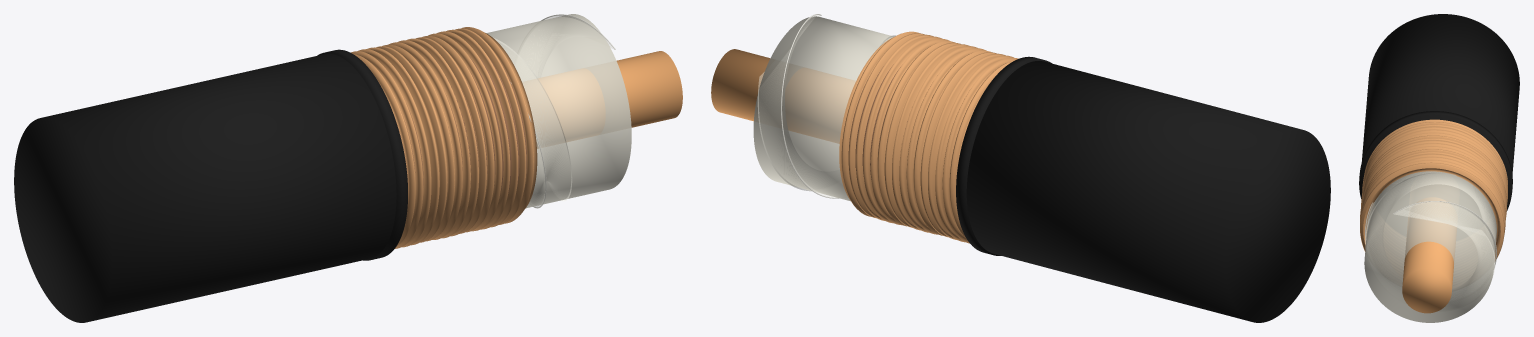
Rendered from rf-lcf78.glb.
The picture shows the model from 3 angles, left to right: view 1: azimuth 30°, elevation 25°; view 2: azimuth 150°, elevation 25°; view 3: azimuth 270°, elevation 25°; orthographic projection. The views are drawn at different scales.
Visible parts, largest first — view 1: black PE jacket body, corrugated copper shield, foam PE dielectric, solid center conductor continuous, jacket cut lip, surface PTFE tape wrap, dark groove shadow pass; view 2: black PE jacket body, corrugated copper shield, foam PE dielectric, solid center conductor continuous, jacket cut lip, surface PTFE tape wrap, dark groove shadow pass; view 3: black PE jacket body, foam PE dielectric, corrugated copper shield, surface PTFE tape wrap, solid center conductor continuous, jacket cut lip, subtle PTFE tape lap line.
Boxes of the visible parts, x1,y1,x2,y2 form: black PE jacket body: [14, 53, 396, 322]; corrugated copper shield: [351, 27, 537, 248]; foam PE dielectric: [486, 14, 631, 208]; solid center conductor continuous: [523, 51, 682, 148]; jacket cut lip: [317, 49, 407, 260]; surface PTFE tape wrap: [494, 16, 614, 206]; dark groove shadow pass: [395, 53, 526, 195]; black PE jacket body: [966, 61, 1330, 322]; corrugated copper shield: [839, 31, 1018, 243]; foam PE dielectric: [753, 16, 893, 201]; solid center conductor continuous: [711, 49, 855, 143]; jacket cut lip: [956, 56, 1051, 255]; surface PTFE tape wrap: [758, 15, 895, 197]; dark groove shadow pass: [848, 64, 907, 179]; black PE jacket body: [1362, 14, 1519, 174]; foam PE dielectric: [1364, 171, 1496, 322]; corrugated copper shield: [1360, 119, 1507, 260]; surface PTFE tape wrap: [1365, 172, 1495, 303]; solid center conductor continuous: [1402, 197, 1456, 313]; jacket cut lip: [1359, 111, 1512, 211]; subtle PTFE tape lap line: [1365, 201, 1496, 268].
Size of the model in its own units: 6.69 by 2.07 by 2.17.
